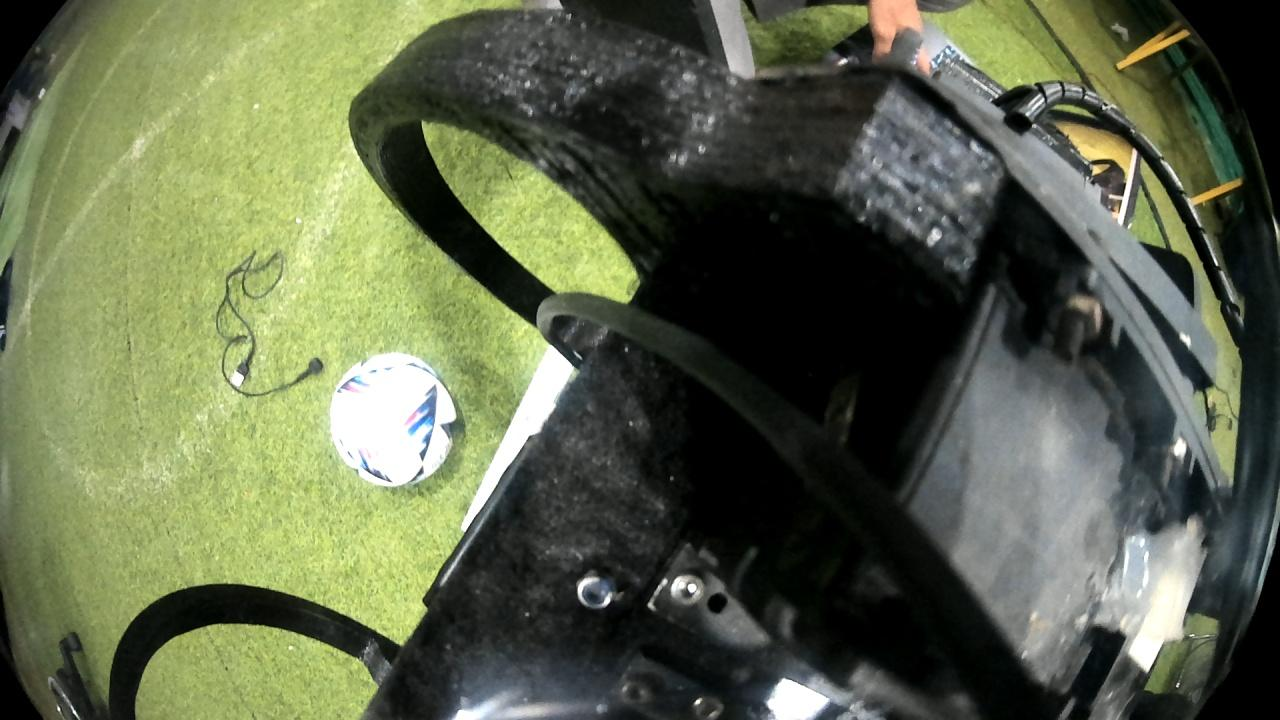ball: (320, 352, 464, 491)
